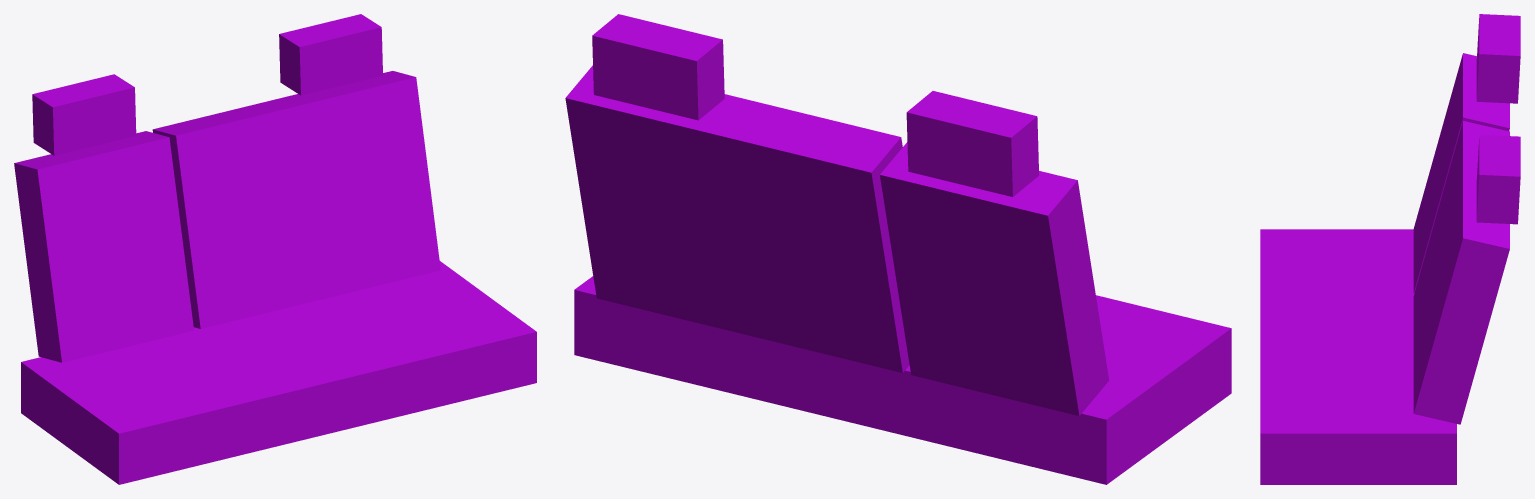
File: Car_Seat_Back_Lod1.fbx
3 views of the same model, side by side, from view 1: azimuth 30°, elevation 25°; view 2: azimuth 150°, elevation 25°; view 3: azimuth 270°, elevation 25° (orthographic). The views are drawn at different scales.
Visible parts, largest first — view 1: Car_Seat_Back_Lod1; view 2: Car_Seat_Back_Lod1; view 3: Car_Seat_Back_Lod1.
Boxes of the visible parts, x1,y1,x2,y2 form: Car_Seat_Back_Lod1: [14, 14, 536, 484]; Car_Seat_Back_Lod1: [565, 14, 1231, 484]; Car_Seat_Back_Lod1: [1260, 14, 1520, 484].
Size of the model in its own units: 145 by 95.31 by 78.16.
